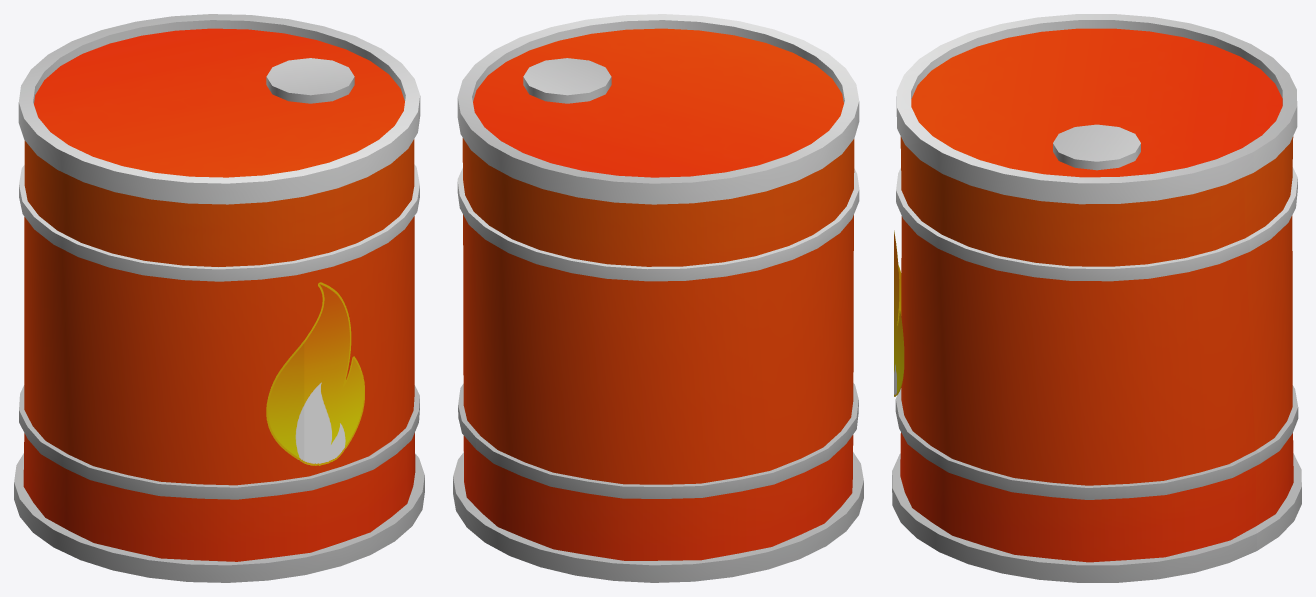
File: Barrel.fbx
3 renders of one model, left to right at view 1: azimuth 30°, elevation 25°; view 2: azimuth 150°, elevation 25°; view 3: azimuth 270°, elevation 25°, orthographic.
Parts seen in each view (by area): view 1: barrel; view 2: barrel; view 3: barrel.
Boxes of the visible parts, x1,y1,x2,y2 form: barrel: [14, 14, 424, 582]; barrel: [453, 14, 863, 582]; barrel: [892, 14, 1301, 582].
Bounding box in the file's own units: 248 × 266 × 248.
